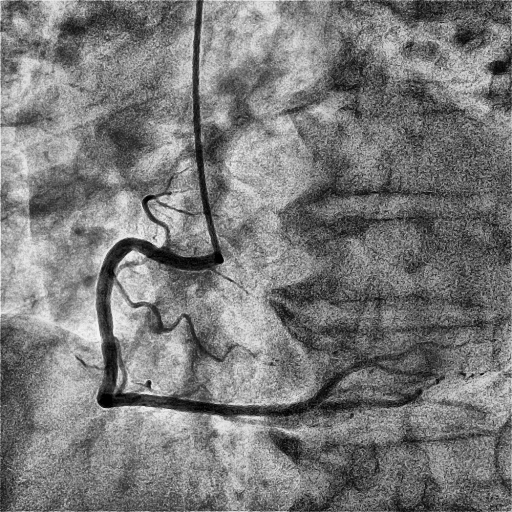pborca: (309, 350, 407, 401)
pda: (315, 390, 421, 411)
rca: (95, 238, 322, 416)
